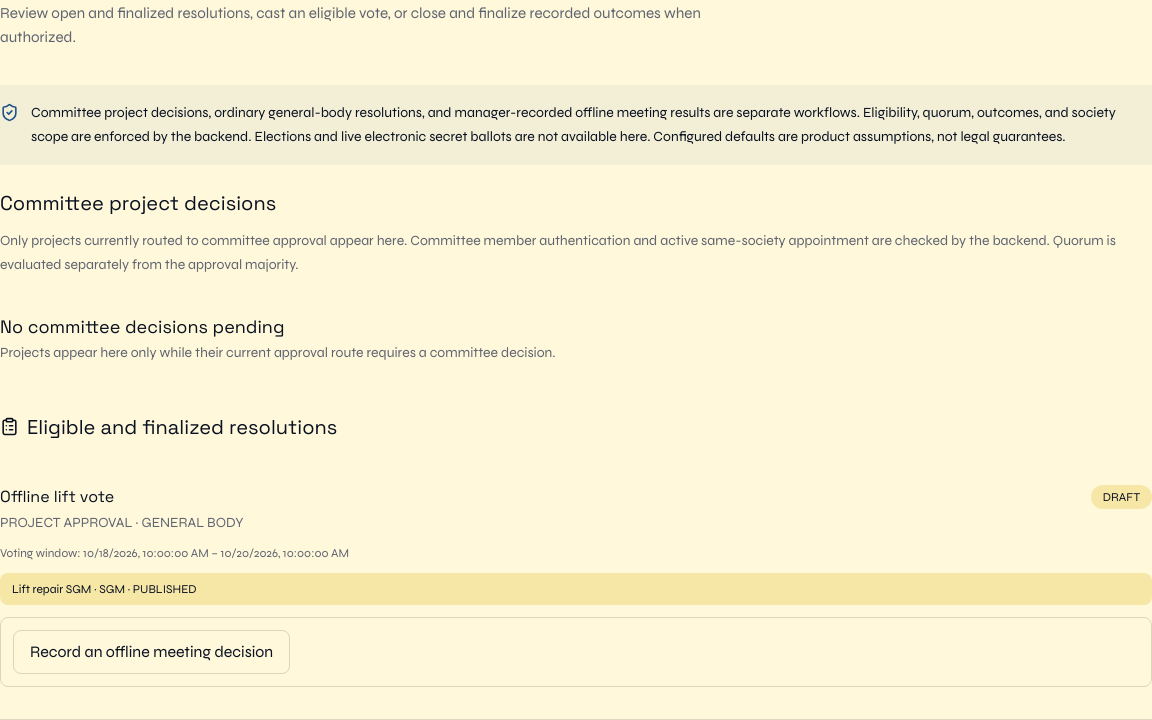
GovernancePage › offers manager-confirmed offline recording for a snapshotted SGM and displays the backend result
The width and height of the screenshot is (1152, 720).
(page scrolled)
Click the button "Record an offline meeting decision" at (152, 652), box [13,630,290,674]
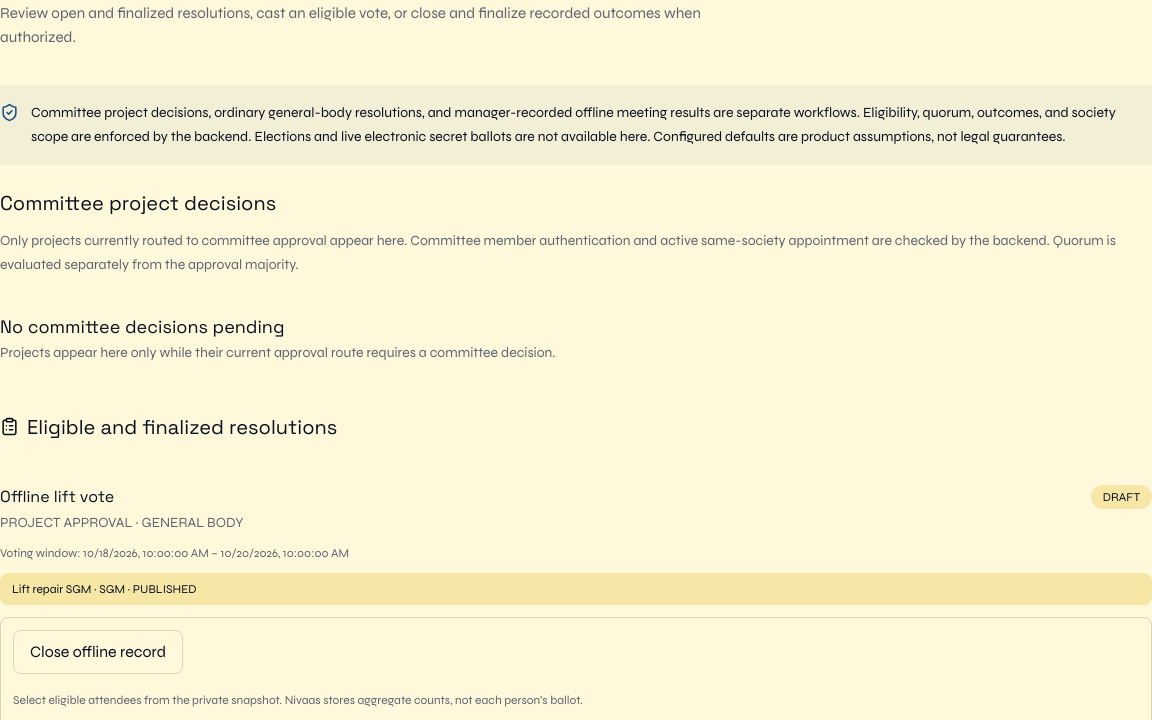
Result: the text "Select eligible attendees from the private snapshot" is shown at [13,693,583,707]
